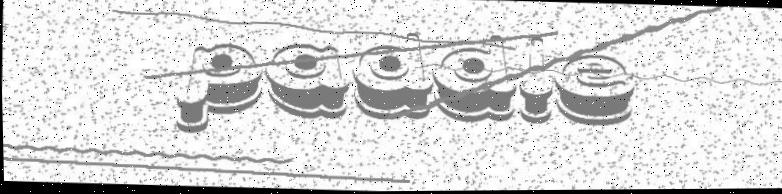a: (263, 43, 350, 120)
d: (431, 33, 519, 124), (350, 32, 434, 120)
e: (552, 54, 635, 126)
l: (519, 36, 554, 123)
p: (176, 42, 264, 136)
